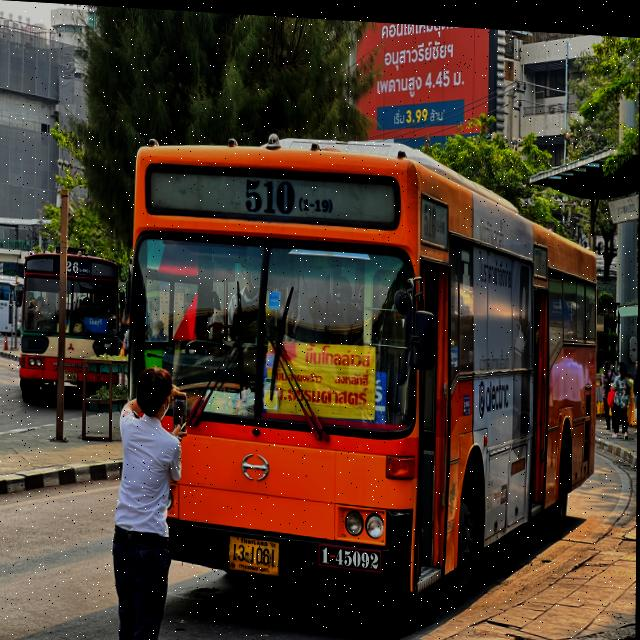BMTA-bus: (113, 137, 600, 640), (18, 252, 130, 409)
Bus Line Number: (241, 173, 335, 215), (65, 258, 92, 273)
Bus Side Number: (319, 539, 382, 568), (93, 371, 117, 383)
Destination Sign: (263, 336, 377, 416), (84, 316, 109, 331)
